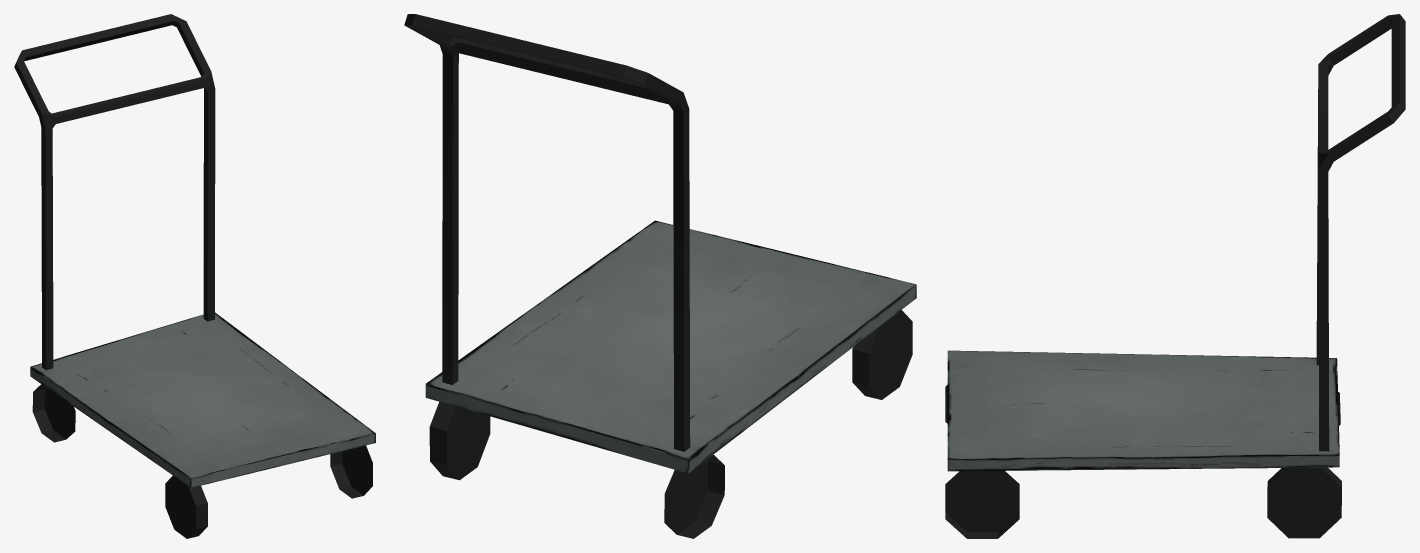
File: Trolley.fbx
3 renders of one model, left to right at view 1: azimuth 30°, elevation 25°; view 2: azimuth 150°, elevation 25°; view 3: azimuth 270°, elevation 25°, orthographic. The views are drawn at different scales.
Visible parts, largest first — view 1: Trolley; view 2: Trolley; view 3: Trolley.
Part boxes in pixels (x1,y1,x2,y2): Trolley: (14,14,375,538); Trolley: (404,14,916,538); Trolley: (945,14,1405,538).
Bounding box in the file's own units: 64.03 × 118 × 114.
Materials: 1 (1 with a texture image).
